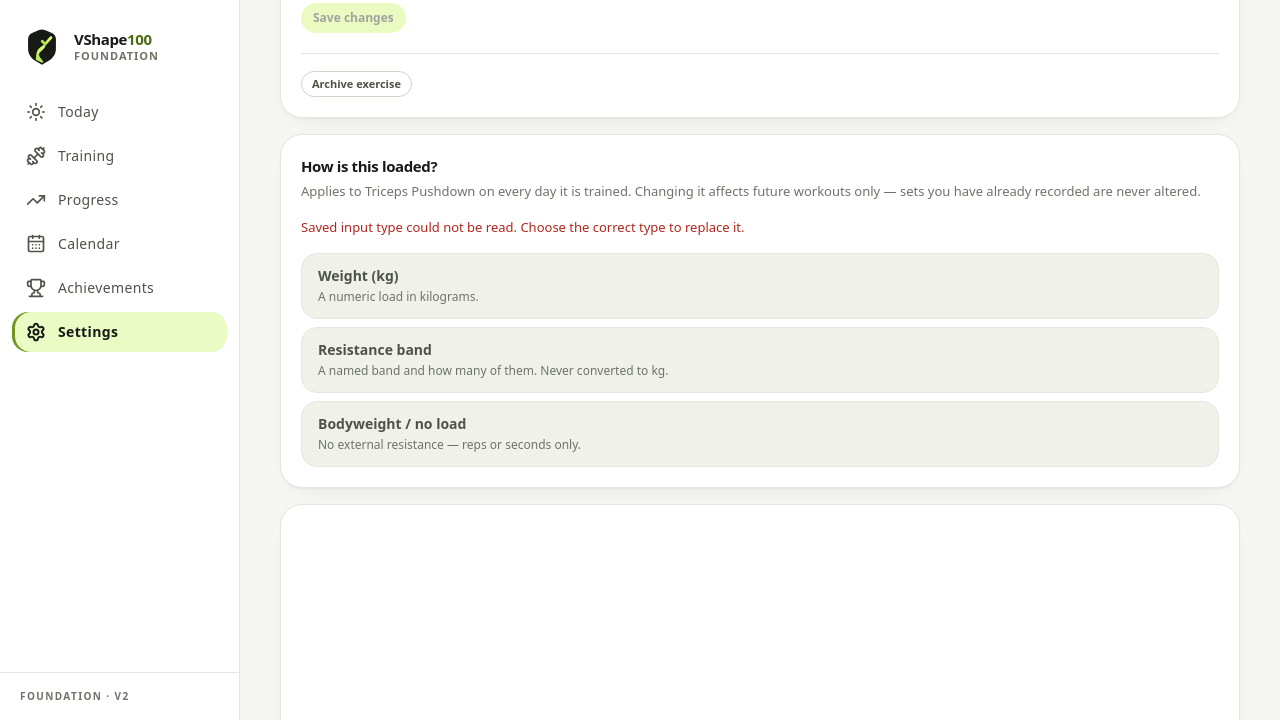
Test: repairing an unreadable input type › replaces the corrupt row when the user chooses, and reads back readable
(page scrolled)
expect the text "Saved input type could not be read" is shown: met, box [301, 218, 744, 236]
What coordinates should you click on to do the following:
click the radio button labelled "Resistance band"
I would click on:
 (375, 350)
Its box is [301, 328, 1219, 394].
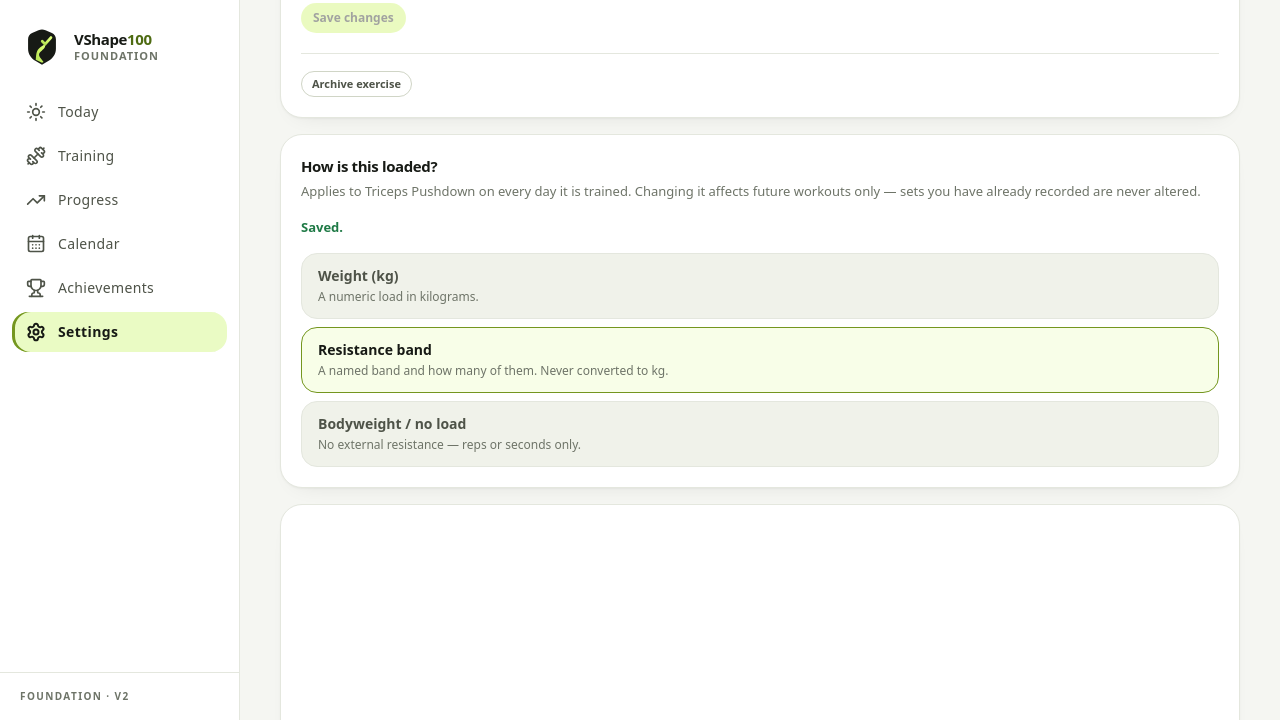
expect the text "Saved." is shown: met, box [301, 218, 343, 237]
expect the text "Saved input type could not be read" is gone: met
